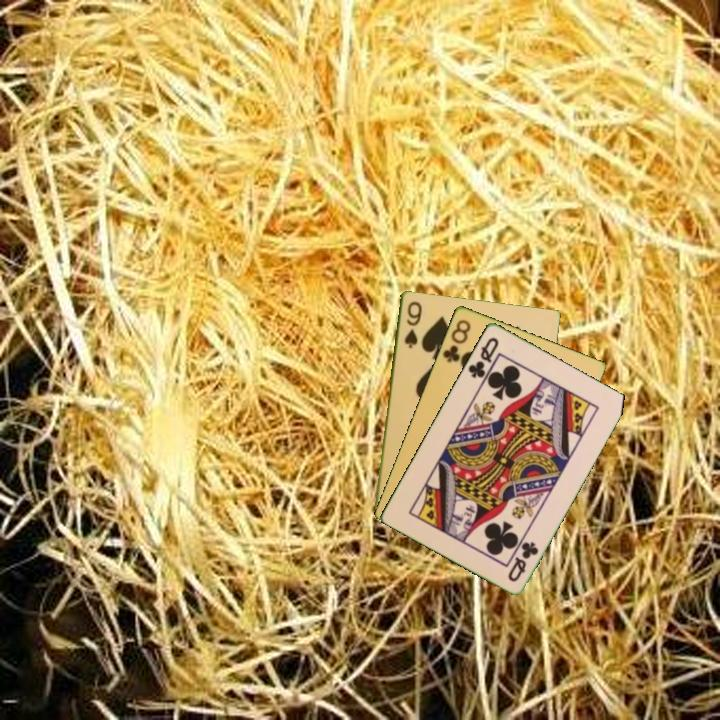8c: (439, 316, 474, 365)
9s: (400, 298, 425, 351)
Qc: (464, 333, 502, 381), (504, 537, 541, 584)
